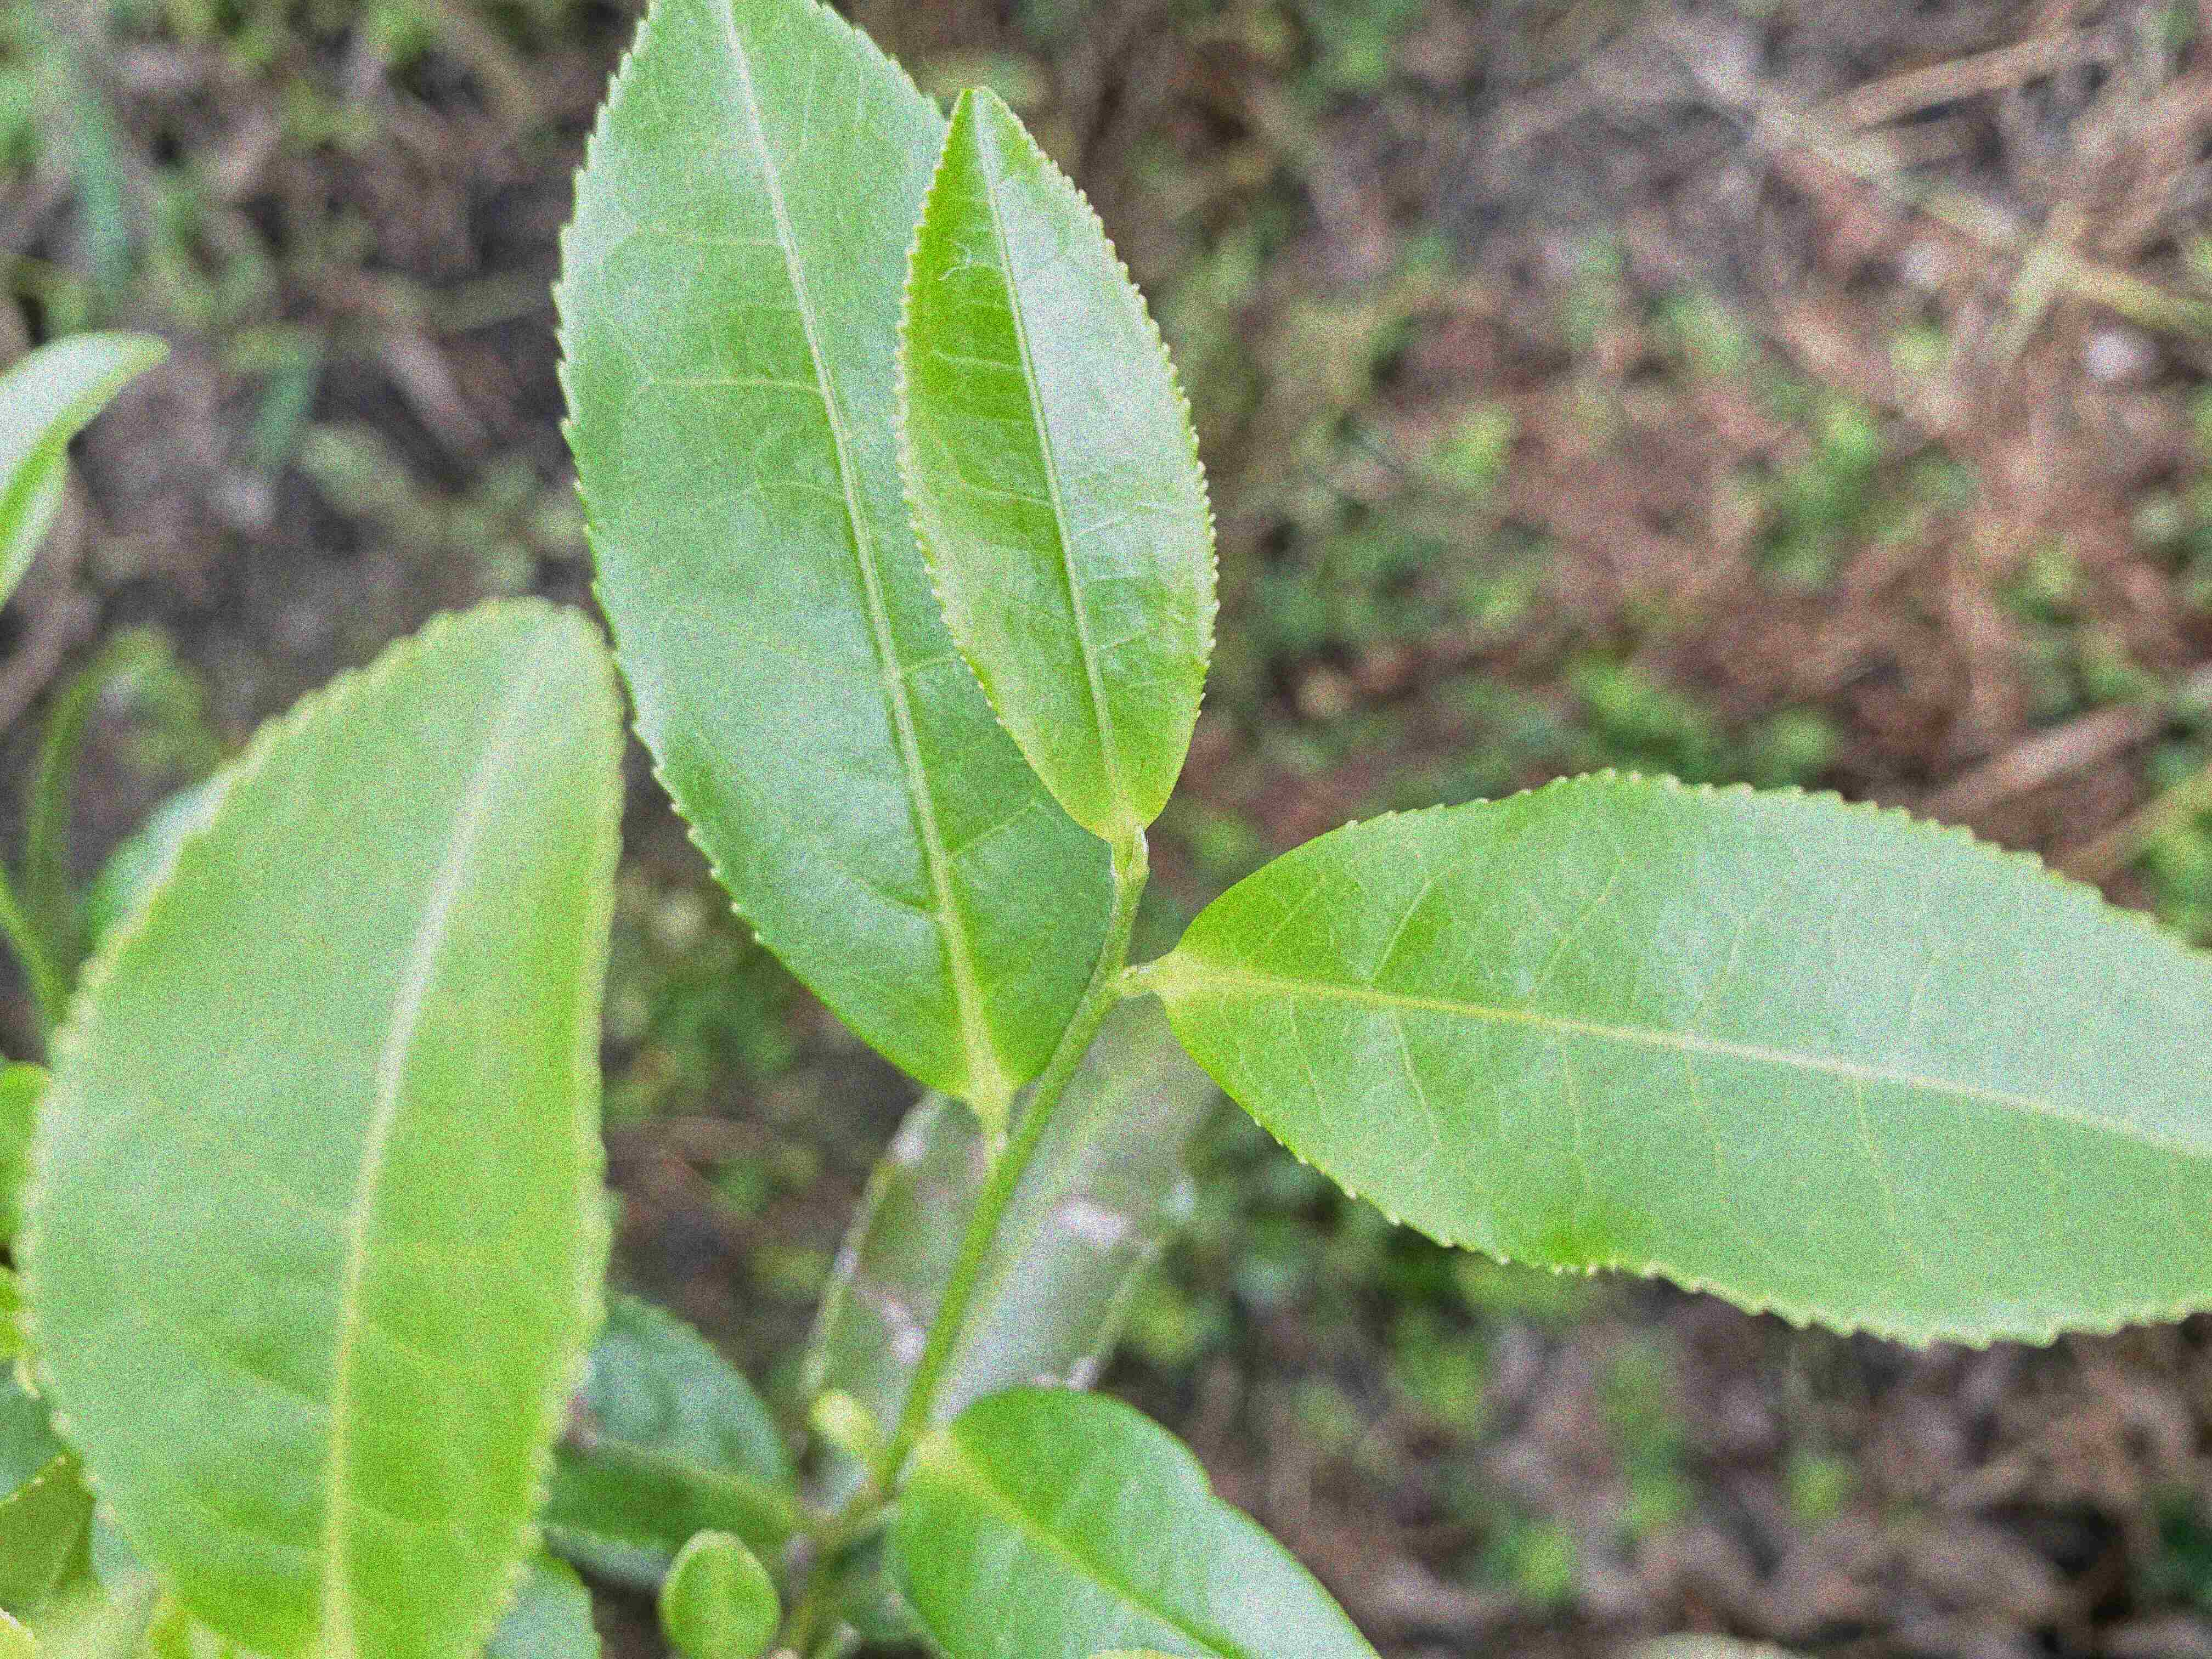healthy: (19, 596, 624, 1657), (545, 3, 1116, 1110), (1183, 763, 2209, 1351), (890, 84, 1221, 833)
